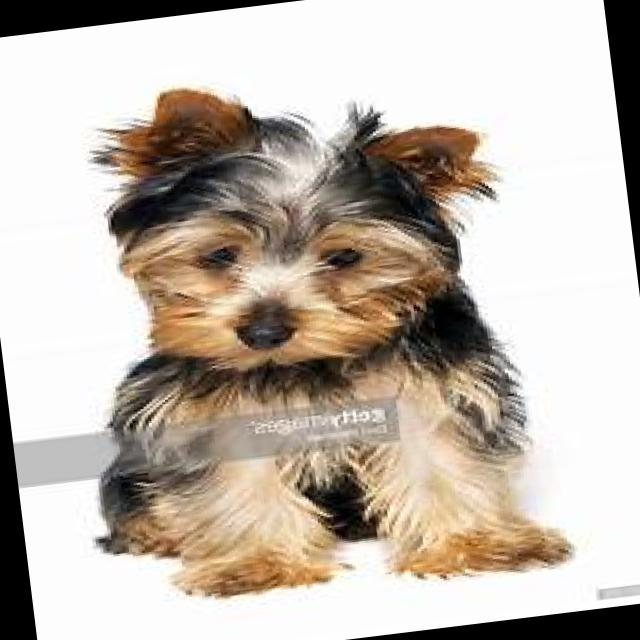animal: (42, 44, 580, 624)
